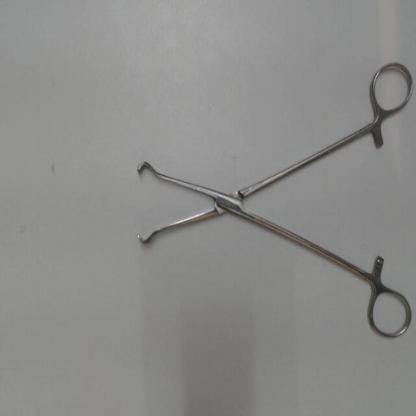8 Babcock Tissue Forceps: (130, 58, 415, 348)
